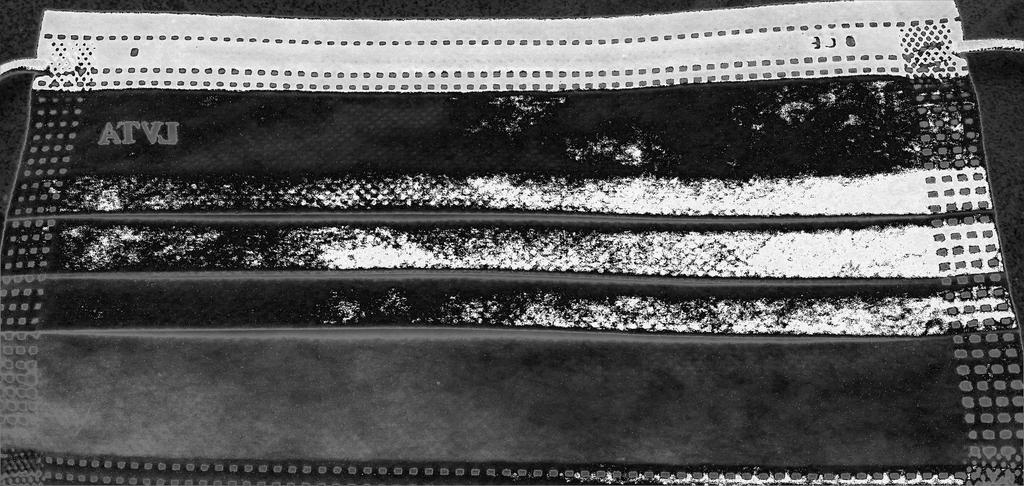High GSM: (55, 95, 924, 463)
